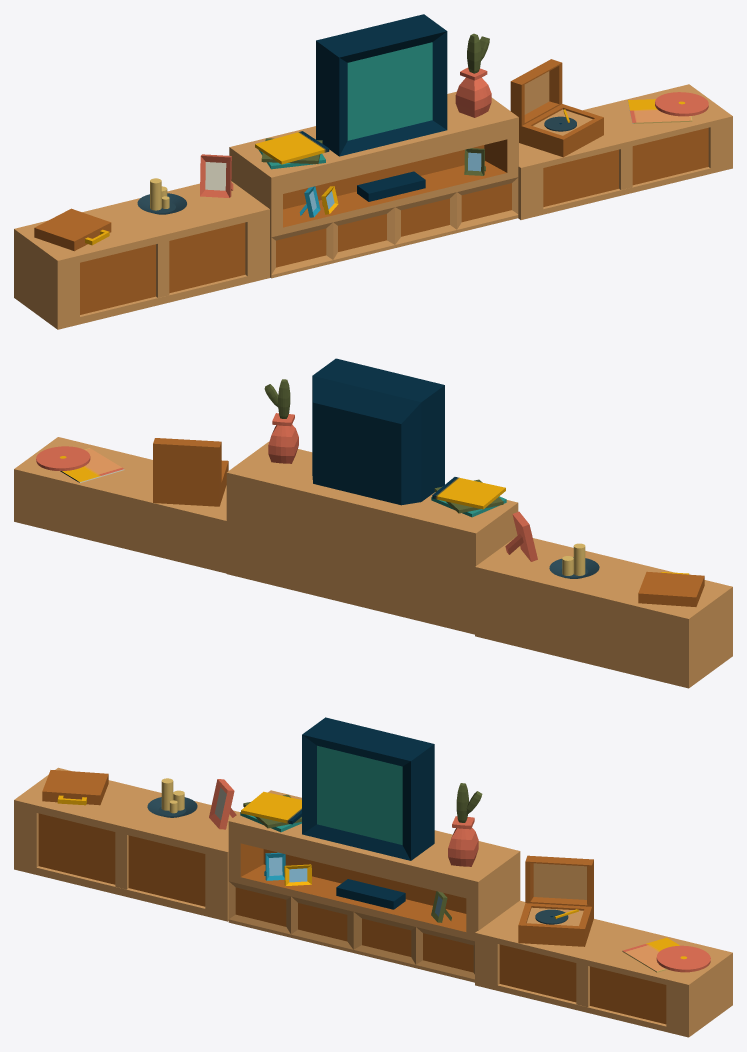
File: MUEBLE-TELE.glb
3 renders of one model, top to bottom at view 1: azimuth 30°, elevation 25°; view 2: azimuth 150°, elevation 25°; view 3: azimuth 330°, elevation 25°, orthographic.
Parts seen in each view (by area): view 1: MUEBLE-TELE; view 2: MUEBLE-TELE; view 3: MUEBLE-TELE.
Part boxes in pixels (x1,y1,x2,y2): MUEBLE-TELE: (14,14,732,329); MUEBLE-TELE: (14,358,732,688); MUEBLE-TELE: (14,717,732,1037).
Bounding box in the file's own units: 12.57 × 3.61 × 1.56.
Materials: 1 (1 with a texture image).
